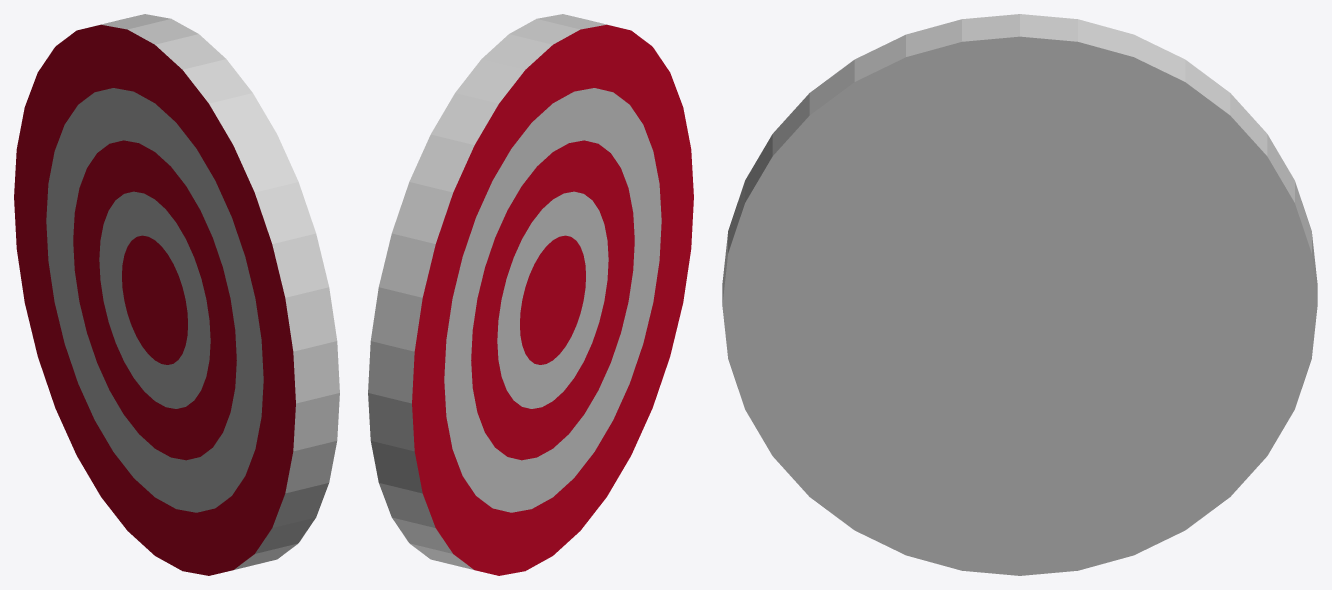
The model's file is target.fbx.
3 views of the same model, side by side, from view 1: azimuth 30°, elevation 25°; view 2: azimuth 150°, elevation 25°; view 3: azimuth 270°, elevation 25° (orthographic). The views are drawn at different scales.
Parts seen in each view (by area): view 1: Cylinder_001; view 2: Cylinder_001; view 3: Cylinder_001.
Part boxes in pixels (x1,y1,x2,y2): Cylinder_001: [14, 14, 339, 575]; Cylinder_001: [368, 14, 693, 575]; Cylinder_001: [722, 14, 1317, 575].
Size of the model in its own units: 0.18 by 2 by 2.
